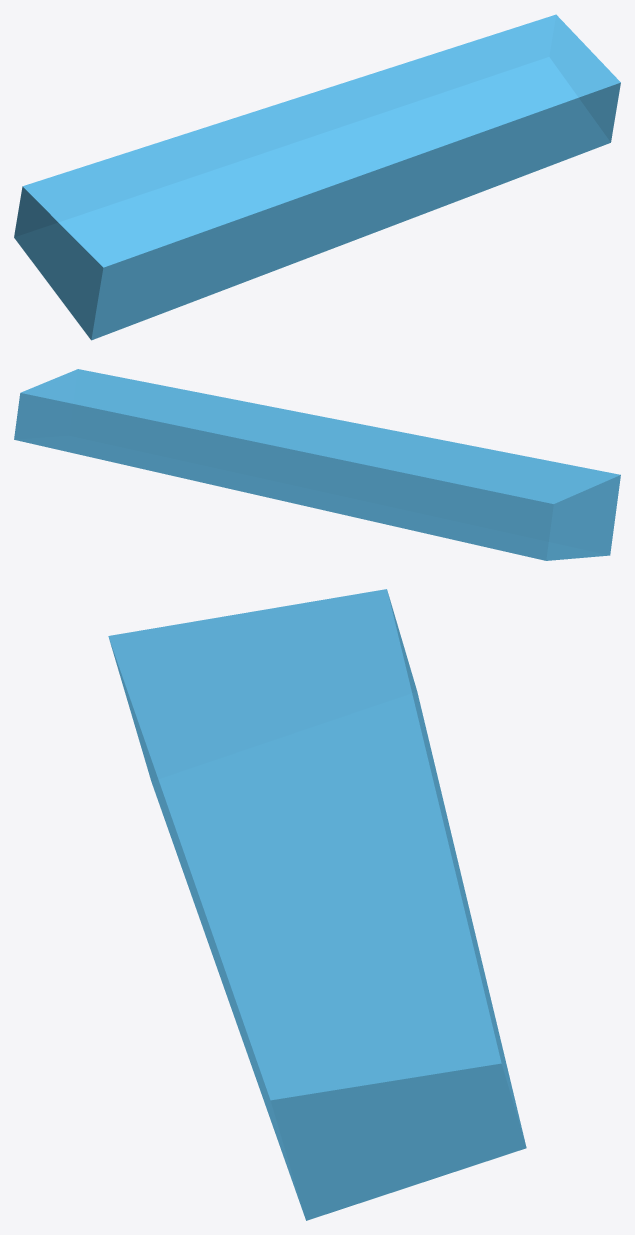
Rendered from Event_420094457_HErechit_86.fbx.
3 views of the same model, one above another, from view 1: azimuth 30°, elevation 25°; view 2: azimuth 150°, elevation 25°; view 3: azimuth 270°, elevation 25° (orthographic). The views are drawn at different scales.
Parts seen in each view (by area): view 1: Model; view 2: Model; view 3: Model.
Part boxes in pixels (x1,y1,x2,y2): Model: (14, 14, 620, 340); Model: (14, 369, 620, 560); Model: (108, 589, 526, 1220).
Bounding box in the file's own units: 2.32 × 0.4583 × 0.8334.
